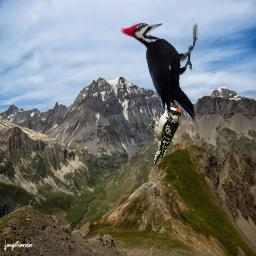Woodpecker: (120, 22, 198, 125), (147, 102, 181, 165)
